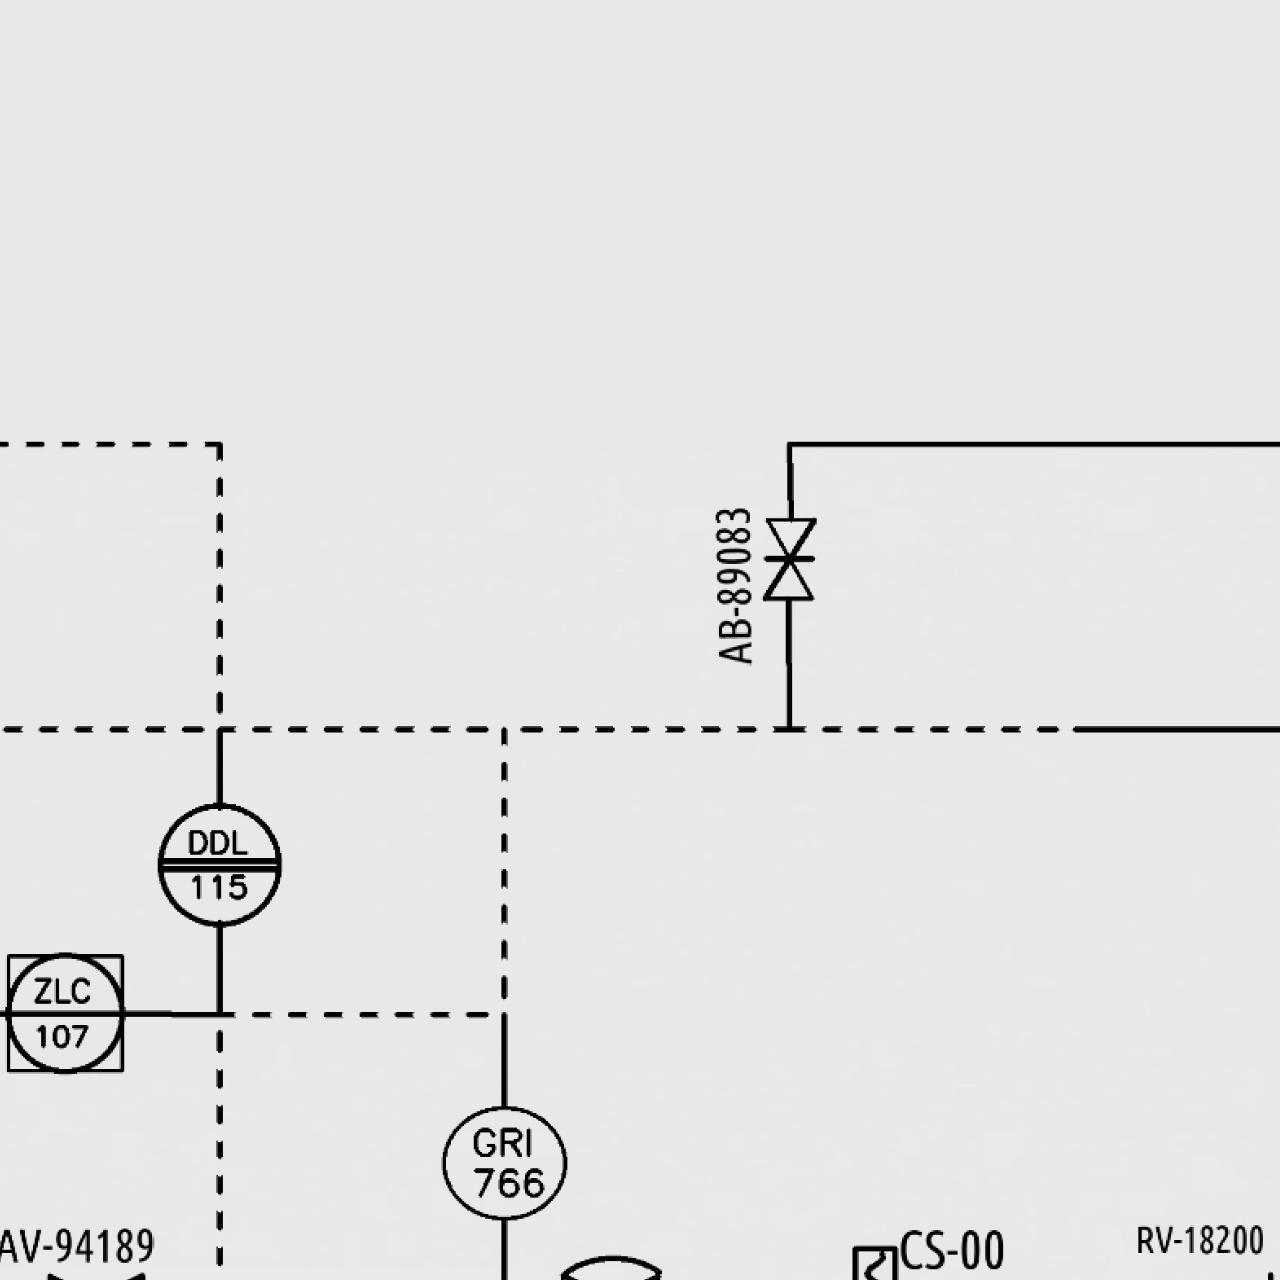Control-Panel: (152, 798, 284, 930)
